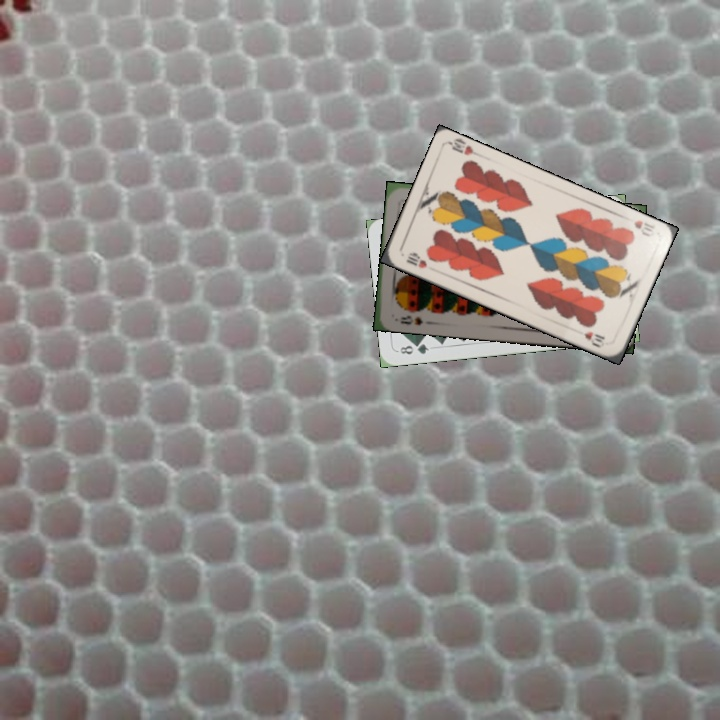G8: (396, 339, 431, 357)
H10: (629, 216, 657, 239), (402, 248, 429, 271)
S8: (396, 311, 425, 328)
